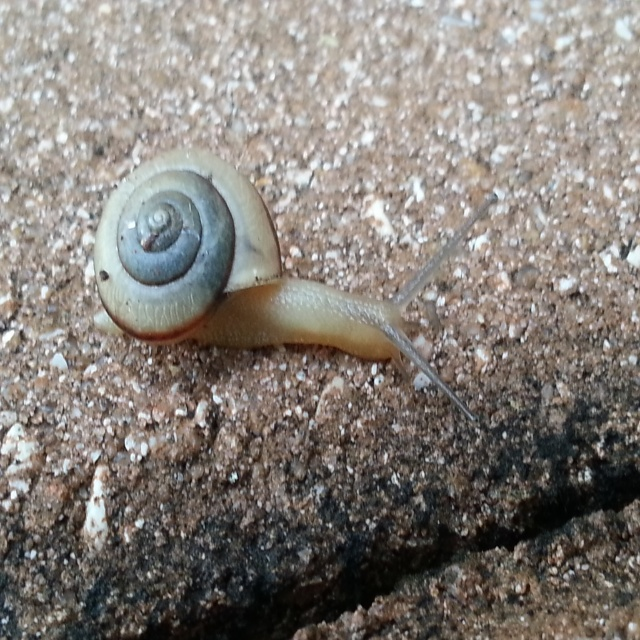Snail: (93, 148, 498, 423)
